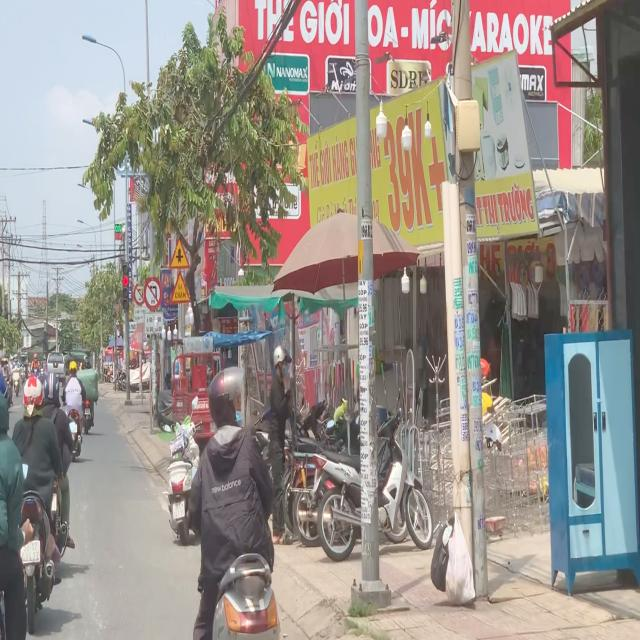Cam re trai: (144, 278, 161, 310)
Giao voi duong khong uu tien: (168, 236, 191, 270)
Nguy hiem: (170, 269, 190, 308)
